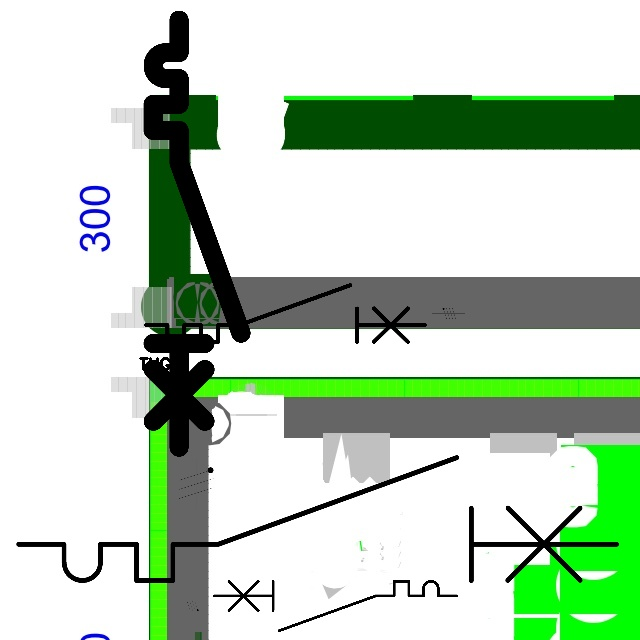interruptor_termomagnetico: (3, 442, 632, 596), (142, 9, 252, 458), (139, 278, 431, 349), (207, 575, 463, 637)
